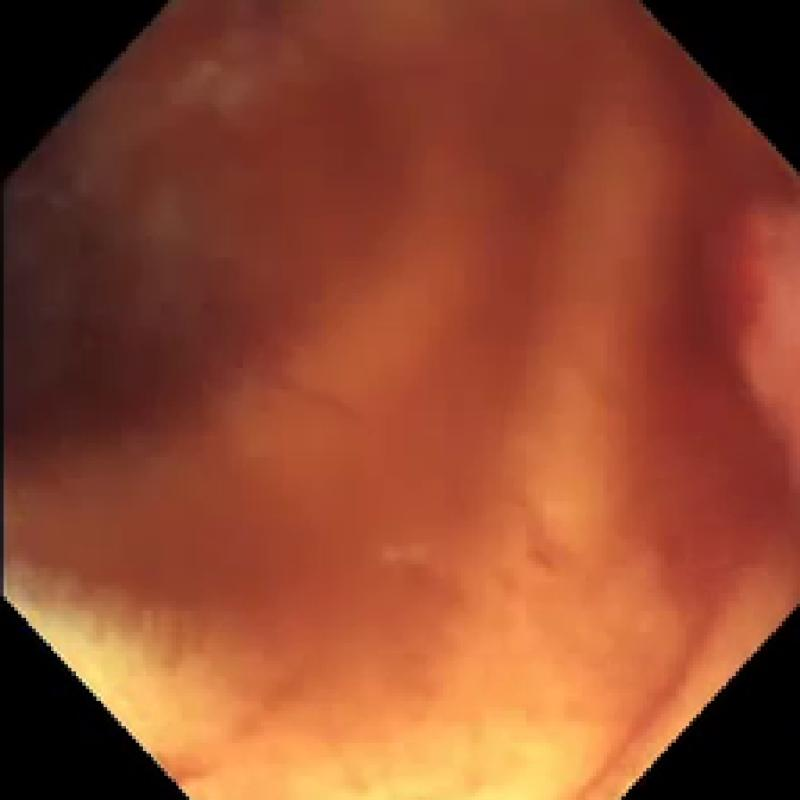bleeding: (0, 0, 793, 768)
